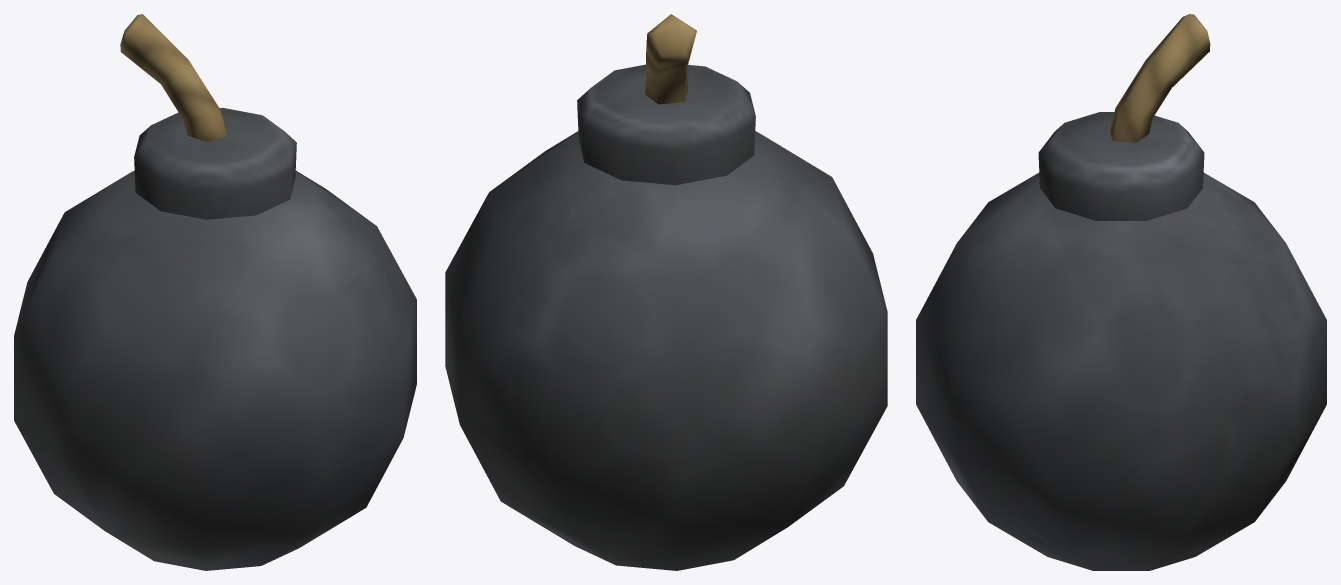
The model's file is SM_TowerDefense_Cannon_Weapon_Bomb.fbx.
The picture shows the model from 3 angles, left to right: view 1: azimuth 30°, elevation 25°; view 2: azimuth 150°, elevation 25°; view 3: azimuth 270°, elevation 25°; orthographic projection. The views are drawn at different scales.
Parts seen in each view (by area): view 1: SM_TowerDefense_Cannon_Weapon_Bomb; view 2: SM_TowerDefense_Cannon_Weapon_Bomb; view 3: SM_TowerDefense_Cannon_Weapon_Bomb.
Boxes of the visible parts, x1,y1,x2,y2 form: SM_TowerDefense_Cannon_Weapon_Bomb: (14,14,416,570); SM_TowerDefense_Cannon_Weapon_Bomb: (445,14,887,570); SM_TowerDefense_Cannon_Weapon_Bomb: (916,14,1326,570).
Size of the model in its own units: 111 by 162 by 116.
